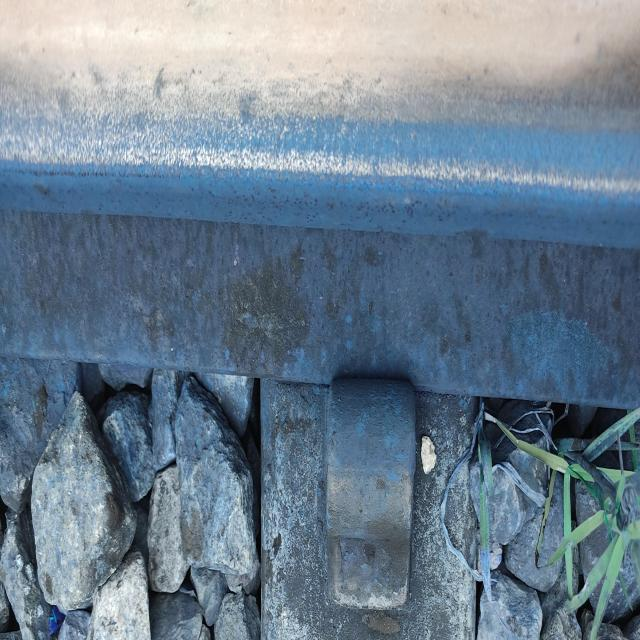Missing Fastener: (239, 338, 465, 637)
